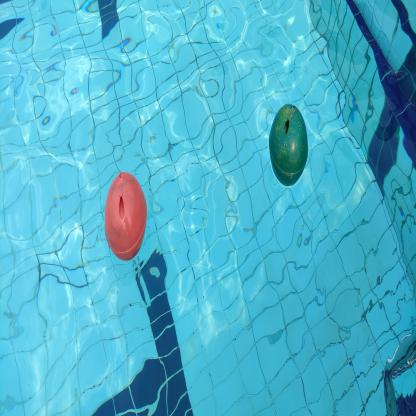green_buoy: (268, 101, 308, 190)
red_buoy: (104, 170, 148, 262)
